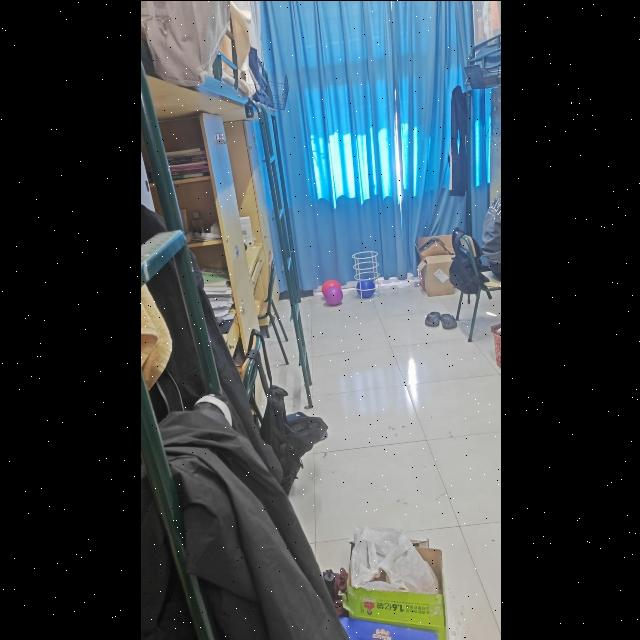B: (353, 276, 377, 300)
P: (323, 286, 343, 304)
R: (324, 278, 341, 286)
